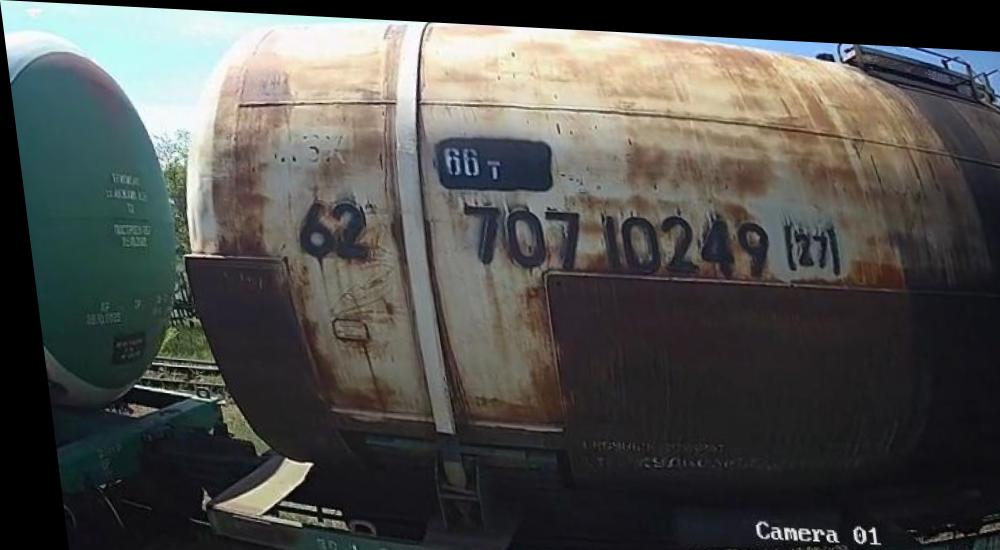Wagon-number: (456, 195, 773, 277)
